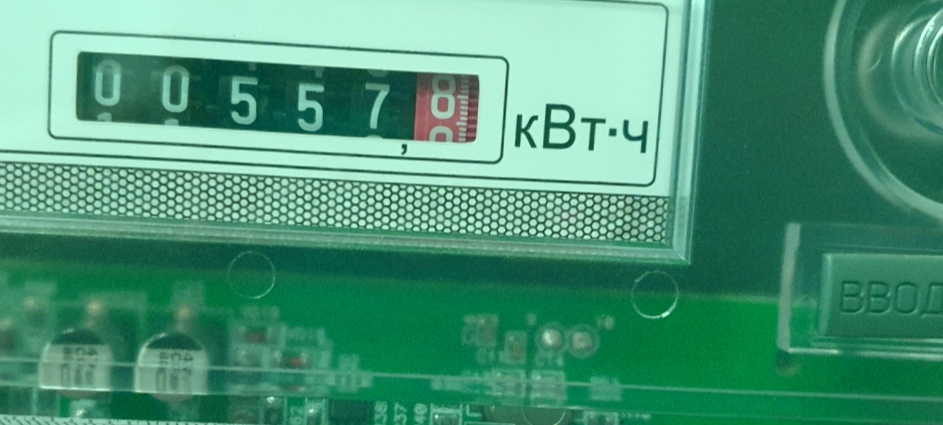0: (87, 52, 124, 109), (155, 60, 191, 113)
5: (289, 74, 329, 134), (223, 69, 260, 127)
7: (355, 76, 390, 132)
8: (427, 71, 456, 121)
screen: (40, 21, 512, 168)
